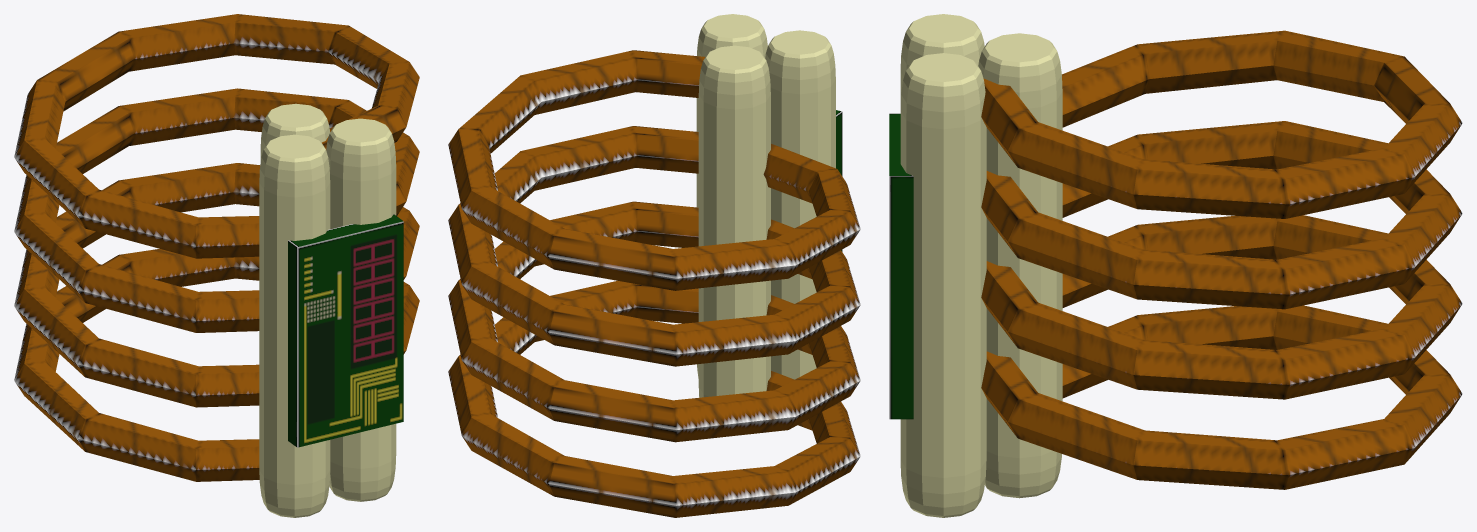
The model's file is Bomb.fbx.
3 renders of one model, left to right at view 1: azimuth 30°, elevation 25°; view 2: azimuth 150°, elevation 25°; view 3: azimuth 270°, elevation 25°, orthographic. The views are drawn at different scales.
Visible parts, largest first — view 1: Bomb; view 2: Bomb; view 3: Bomb.
Part boxes in pixels (x1,y1,x2,y2): Bomb: (14, 14, 419, 517); Bomb: (448, 14, 860, 517); Bomb: (889, 14, 1462, 517).
Size of the model in its own units: 190 by 191 by 228.
Materials: 1 (1 with a texture image).
